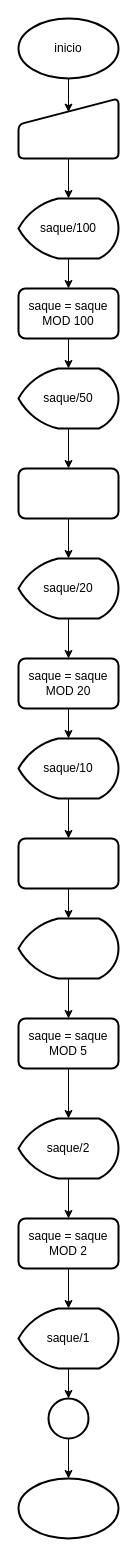
Some shapes in this 136 by 1556 pixel diagram are drawn without their labels. The shapes that lost their labels are listed below. From the top down, each one's centre as x and y in pixels, then its label:
[68,128]: leia
[68,493]: saque = saque MOD 50
[68,863]: saque = saque MOD 10
[68,948]: saque/5
[68,1508]: fim
